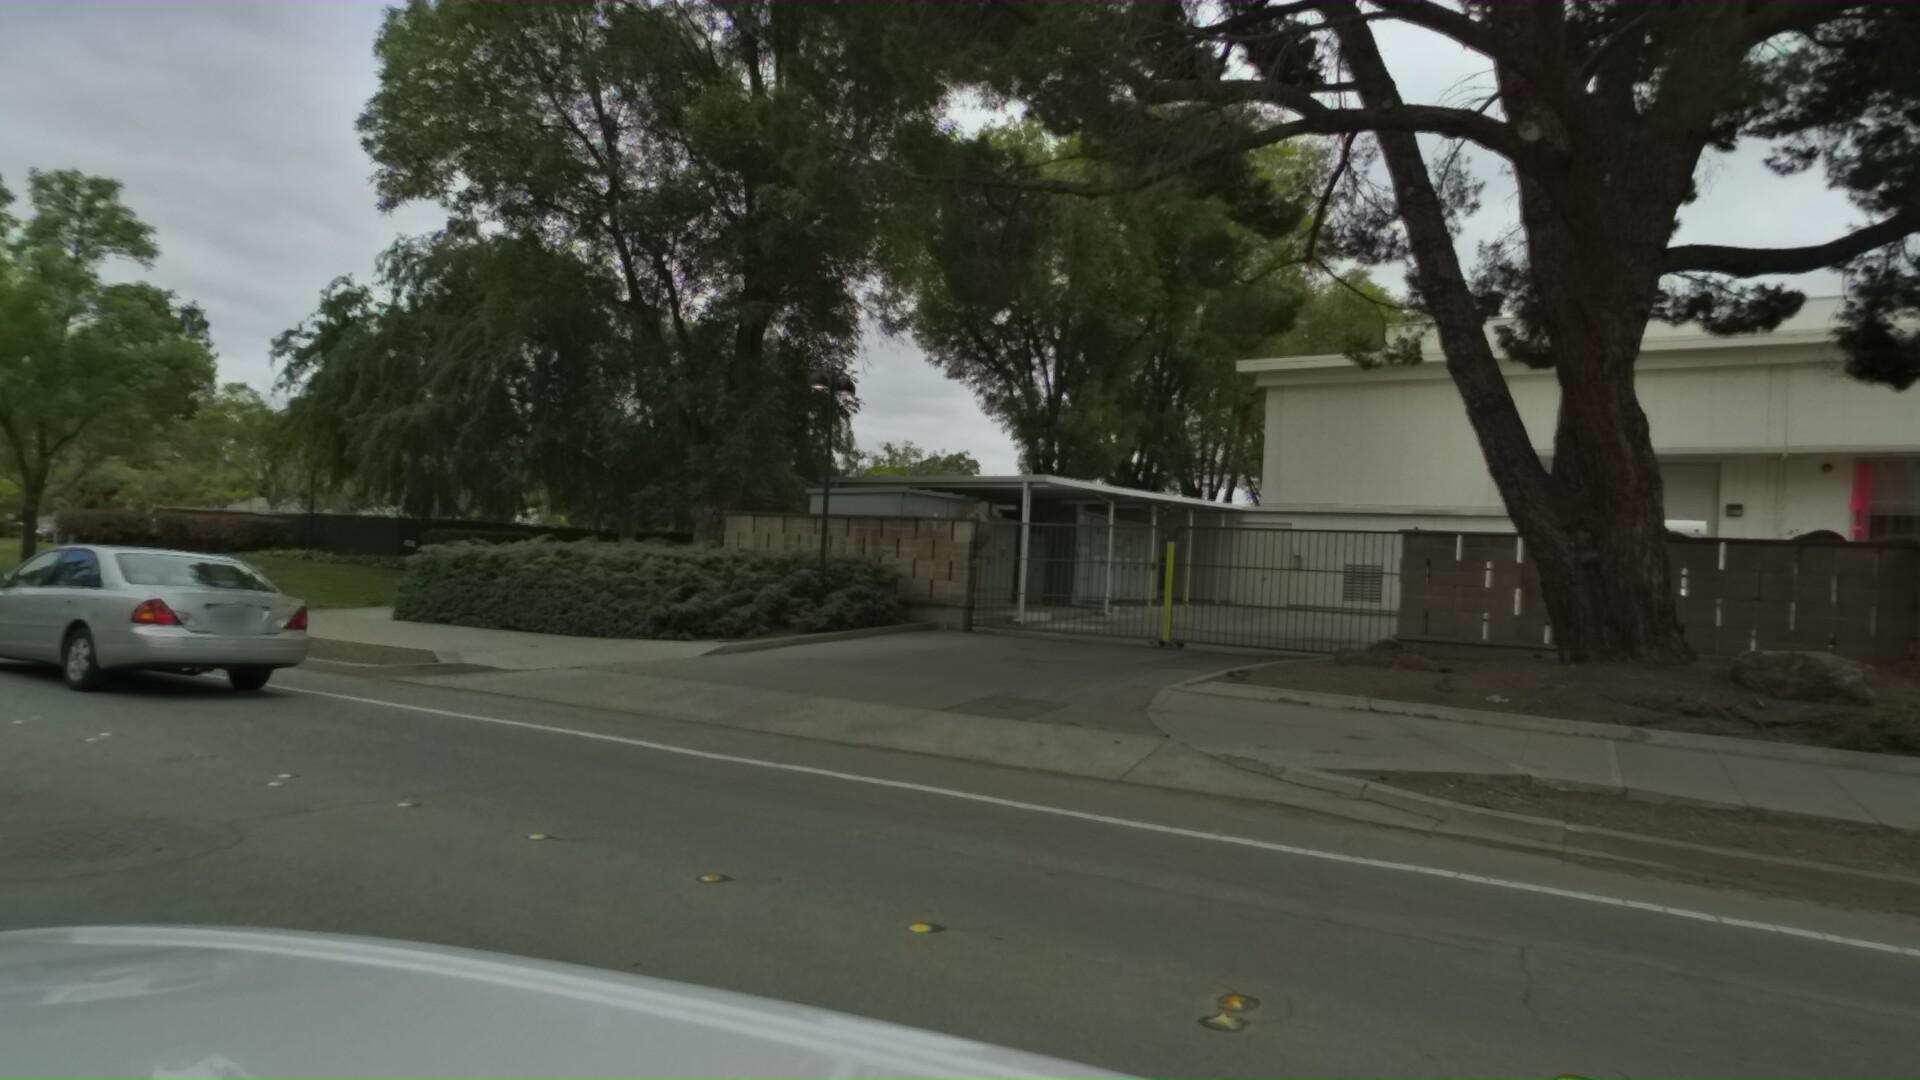car: (0, 508, 301, 712)
truck: (1564, 502, 1685, 646)
